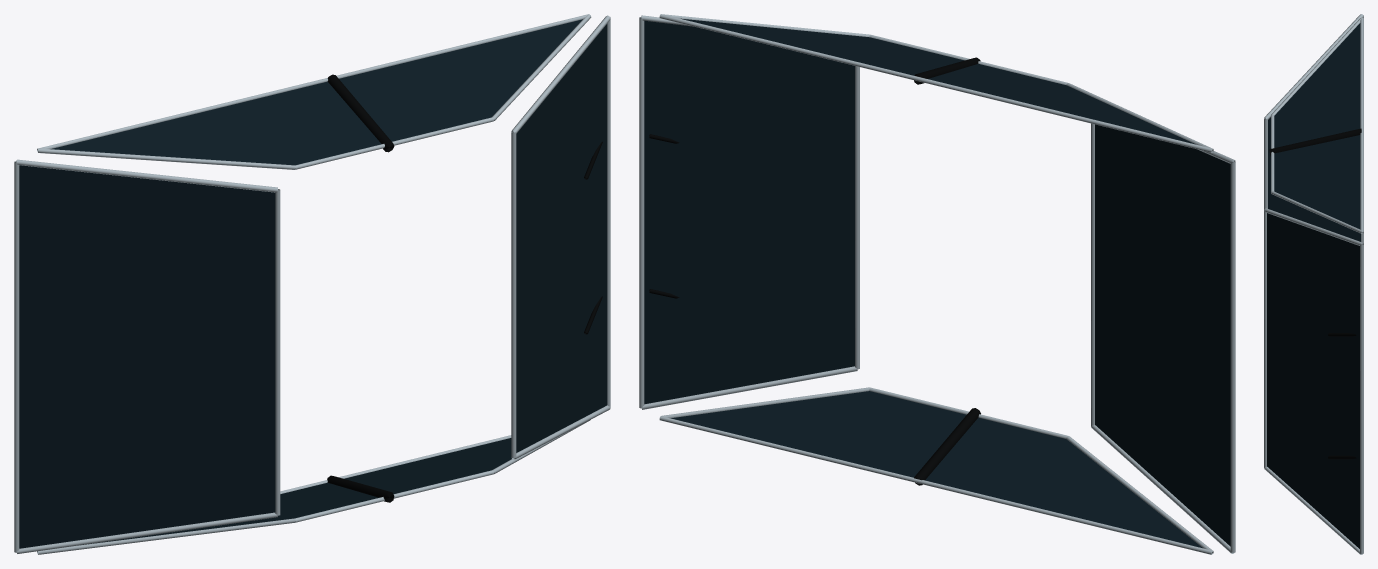
Rendered from Car70Cabin0.obj.
3 views of the same model, side by side, from view 1: azimuth 30°, elevation 25°; view 2: azimuth 150°, elevation 25°; view 3: azimuth 270°, elevation 25° (orthographic). The views are drawn at different scales.
Parts seen in each view (by area): view 1: Car70Cabin0; view 2: Car70Cabin0; view 3: Car70Cabin0.
Boxes of the visible parts, x1,y1,x2,y2 form: Car70Cabin0: (14,14,610,554); Car70Cabin0: (639,14,1235,554); Car70Cabin0: (1264,14,1363,554).
Bounding box in the file's own units: 250 × 165 × 45.82.
